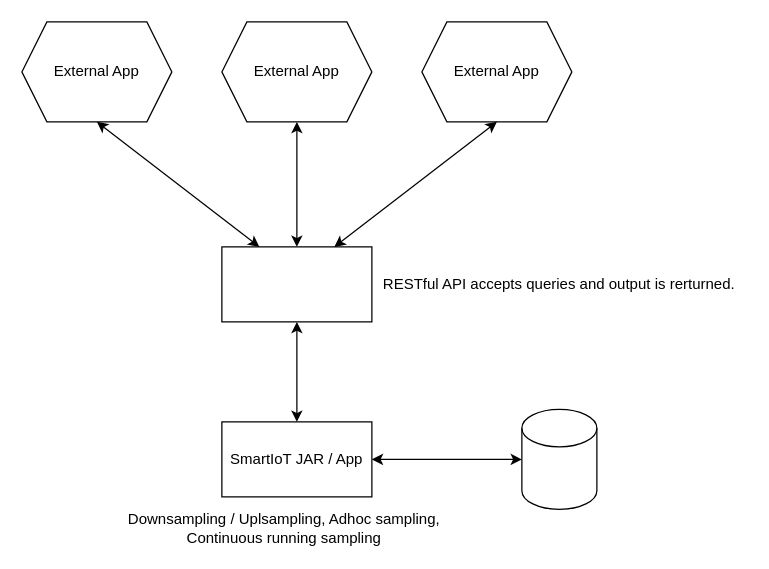
The diagram is 769 pixels wide and 569 high, and some of its shapes have lost their labels. The shapes that lost their labels are listed below. From the top down, each one's centre as x and y in pixels, then its label:
pixel 296 284: RESTful API Service
pixel 559 458: Apache Ignite
